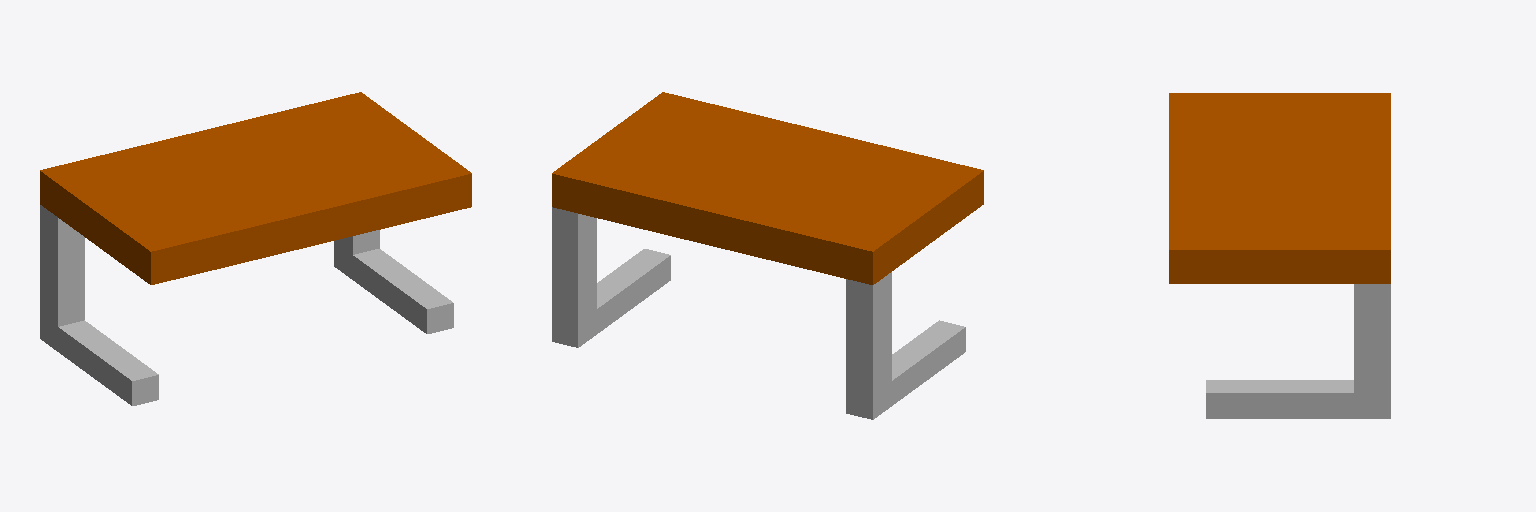
File: Table2.obj
3 renders of one model, left to right at view 1: azimuth 30°, elevation 25°; view 2: azimuth 150°, elevation 25°; view 3: azimuth 270°, elevation 25°, orthographic.
Parts seen in each view (by area): view 1: Table2; view 2: Table2; view 3: Table2.
Boxes of the visible parts, <box> form: Table2: <box>40,92,471,405</box>; Table2: <box>552,92,983,419</box>; Table2: <box>1169,93,1390,418</box>.
Bounding box in the file's own units: 2 × 1 × 1.2.